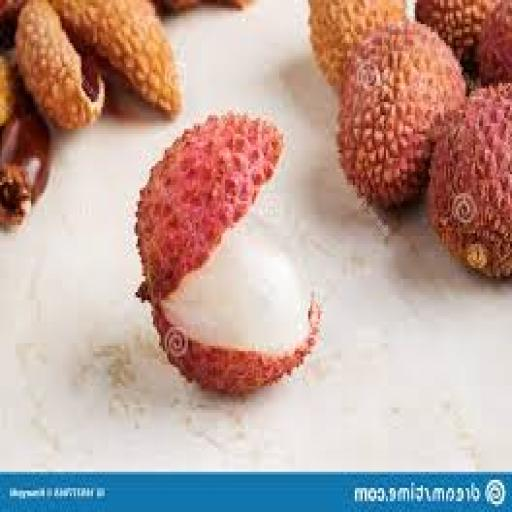lychee: (135, 116, 319, 394), (337, 22, 464, 206), (428, 86, 511, 276), (308, 0, 404, 85), (415, 0, 495, 64), (477, 0, 511, 85)
